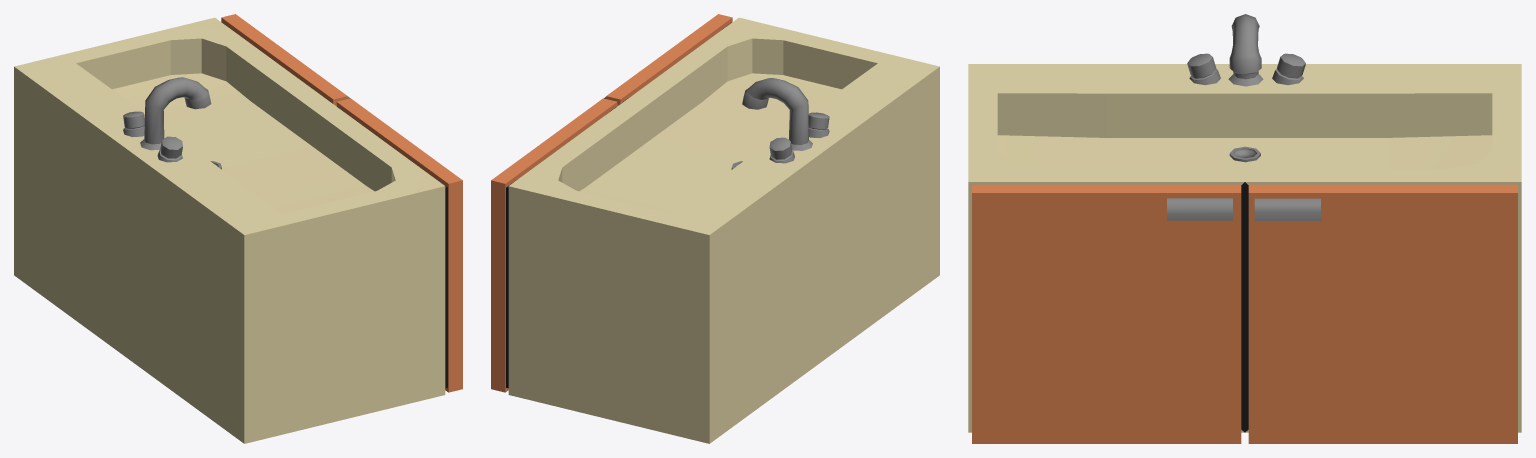
Rendered from SM_Sink_Big_01.fbx.
3 renders of one model, left to right at view 1: azimuth 30°, elevation 25°; view 2: azimuth 150°, elevation 25°; view 3: azimuth 270°, elevation 25°, orthographic. The views are drawn at different scales.
Parts seen in each view (by area): view 1: SM_Sink_Big_01; view 2: SM_Sink_Big_01; view 3: SM_Sink_Big_01.
Part boxes in pixels (x1,y1,x2,y2): SM_Sink_Big_01: (14, 14, 462, 443); SM_Sink_Big_01: (491, 14, 939, 443); SM_Sink_Big_01: (968, 14, 1521, 443).
Size of the model in its own units: 1.15 by 2 by 1.29.
